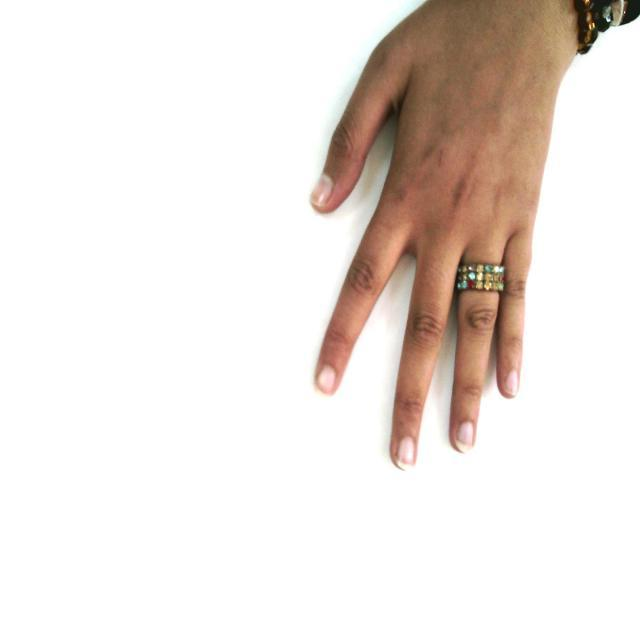Fingernail: (311, 175, 332, 204), (397, 437, 415, 468), (318, 367, 335, 394), (457, 422, 473, 450), (506, 372, 518, 394)
